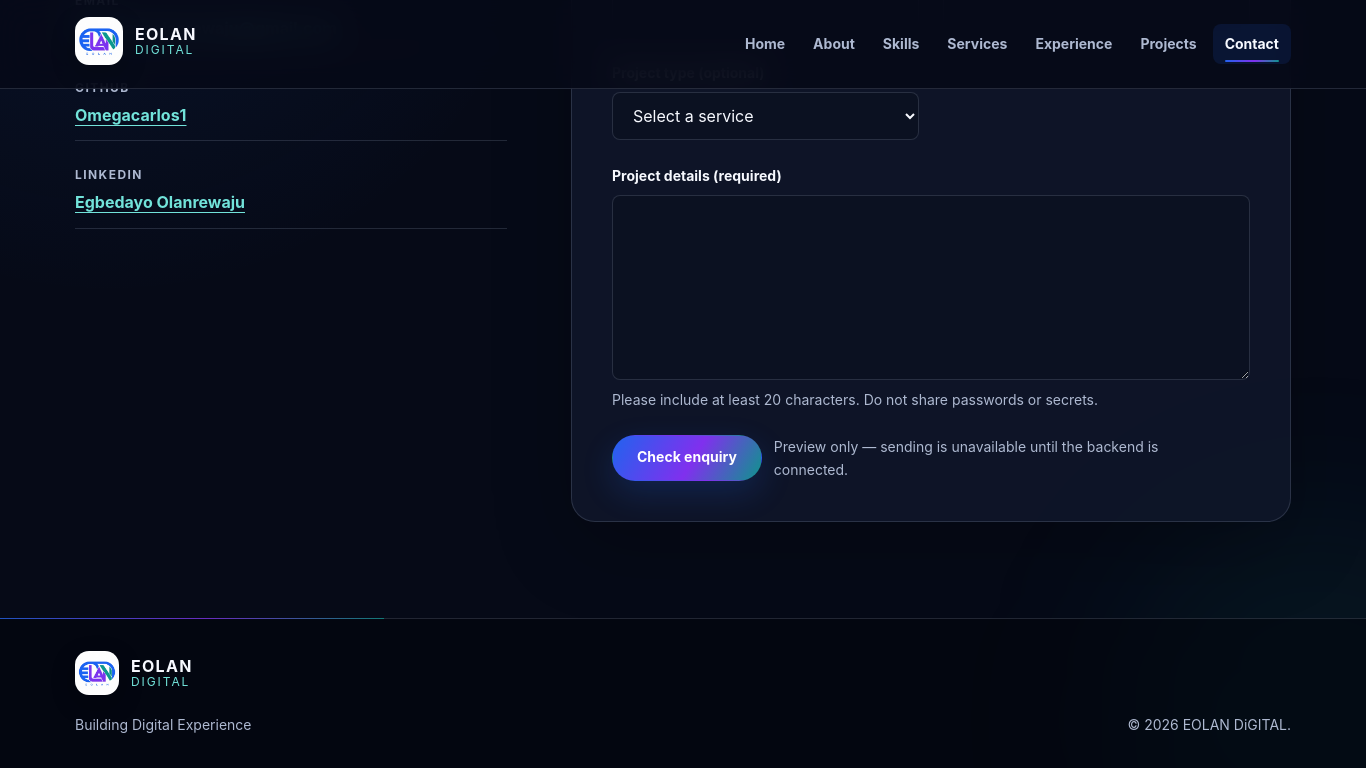
contact form › shows validation messages for missing required fields
(page scrolled)
Click the button "Check enquiry". click: [687, 458]
box: [612, 435, 762, 481]
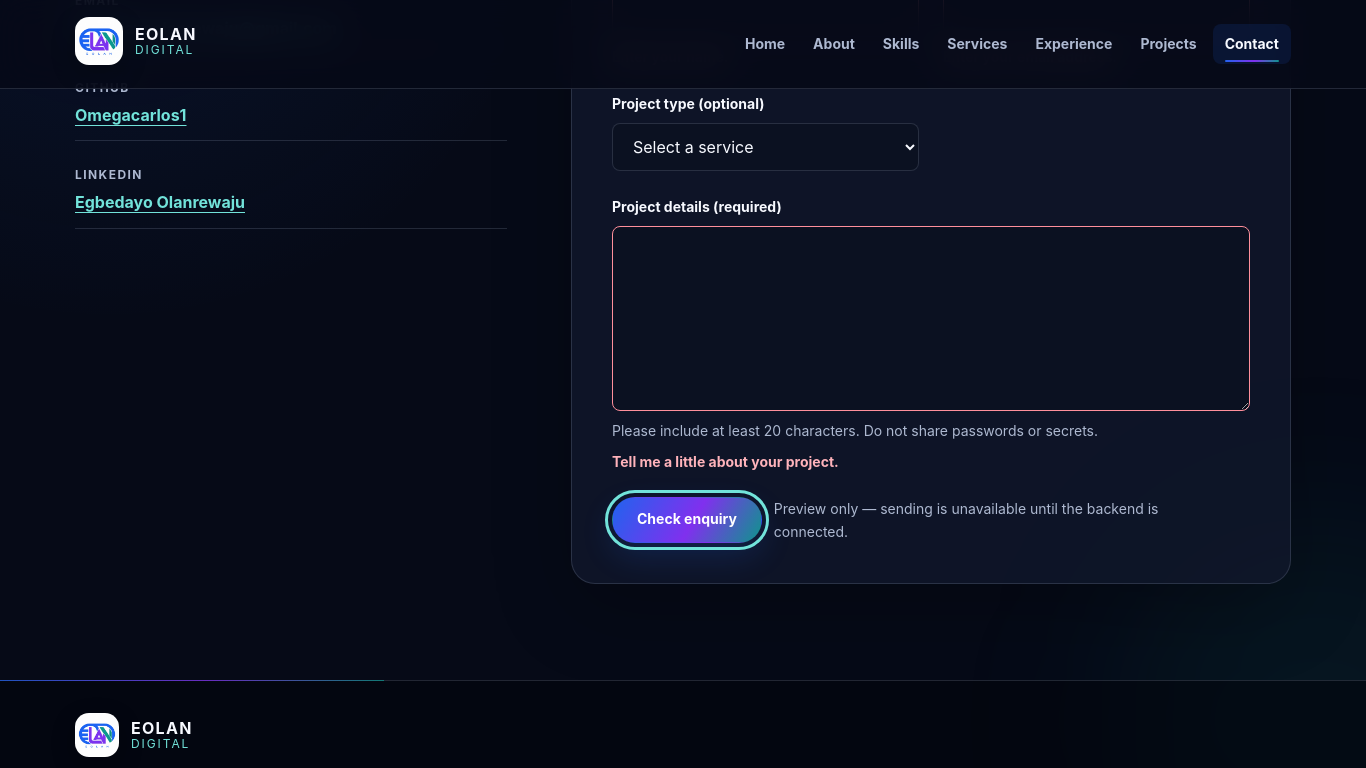
Expected: the text "Enter your email address." is shown, [943, 48, 1117, 65]
Now the text "Tell me a little about your project." is shown, box [612, 453, 839, 470]
